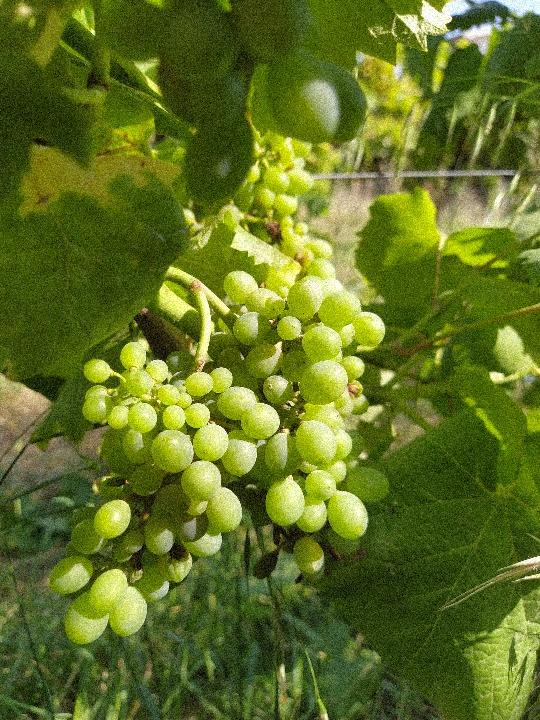grape: (47, 255, 390, 648)
